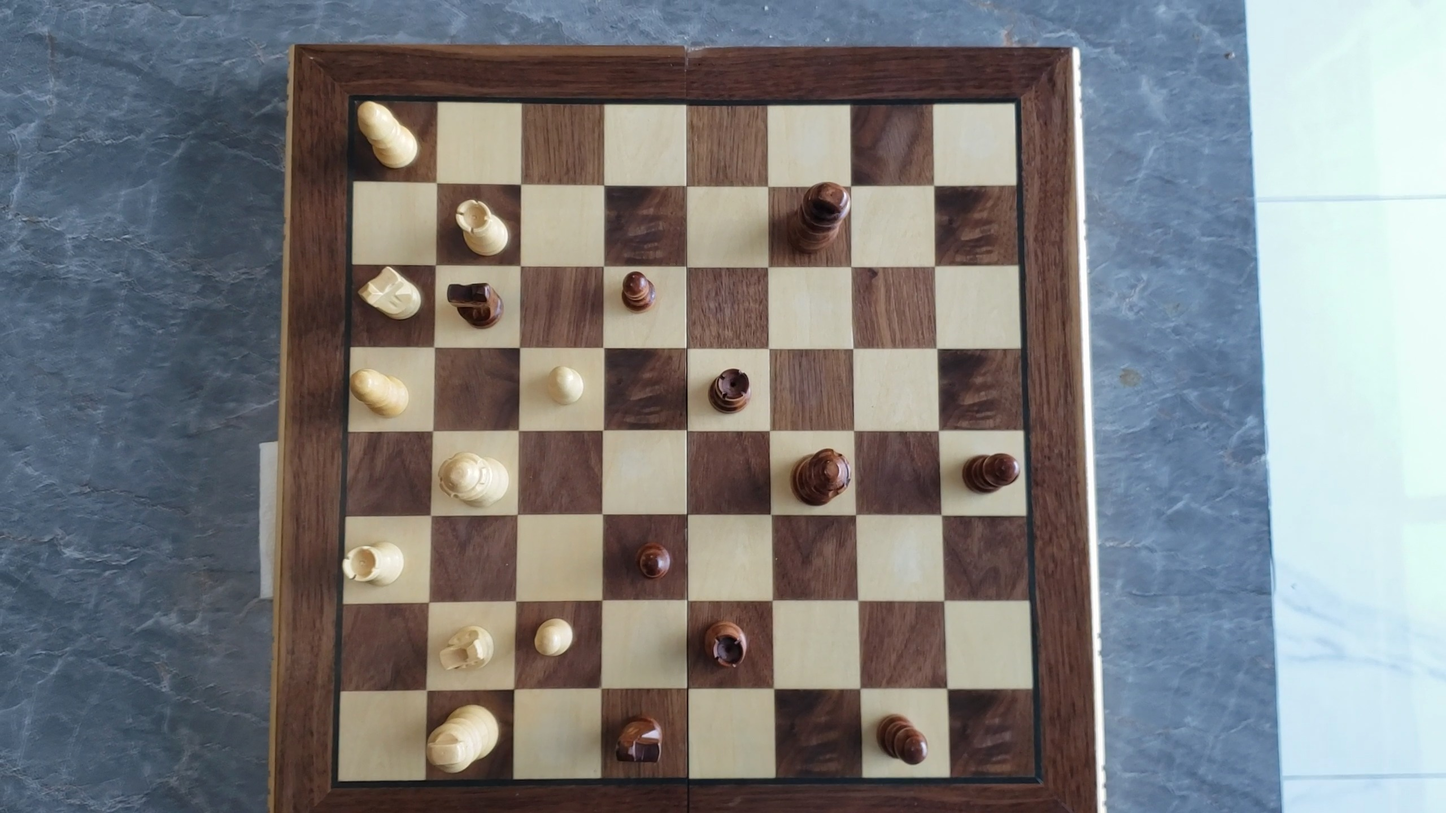black-bishop: (873, 707, 931, 763), (961, 449, 1021, 494)
black-king: (789, 177, 853, 256)
black-knight: (605, 708, 675, 774), (446, 279, 504, 330)
black-pawn: (619, 268, 659, 314), (633, 538, 674, 580)
black-queen: (785, 446, 861, 511)
black-rook: (702, 616, 751, 671), (705, 366, 754, 414)
white-bishop: (344, 87, 428, 174), (344, 359, 419, 425)
white-king: (418, 704, 513, 775)
white-knight: (357, 264, 425, 324), (438, 620, 496, 681)
white-pawn: (530, 614, 578, 659), (545, 361, 590, 408)
white-queen: (437, 444, 517, 507)
white-rook: (332, 528, 418, 595), (452, 195, 513, 259)
